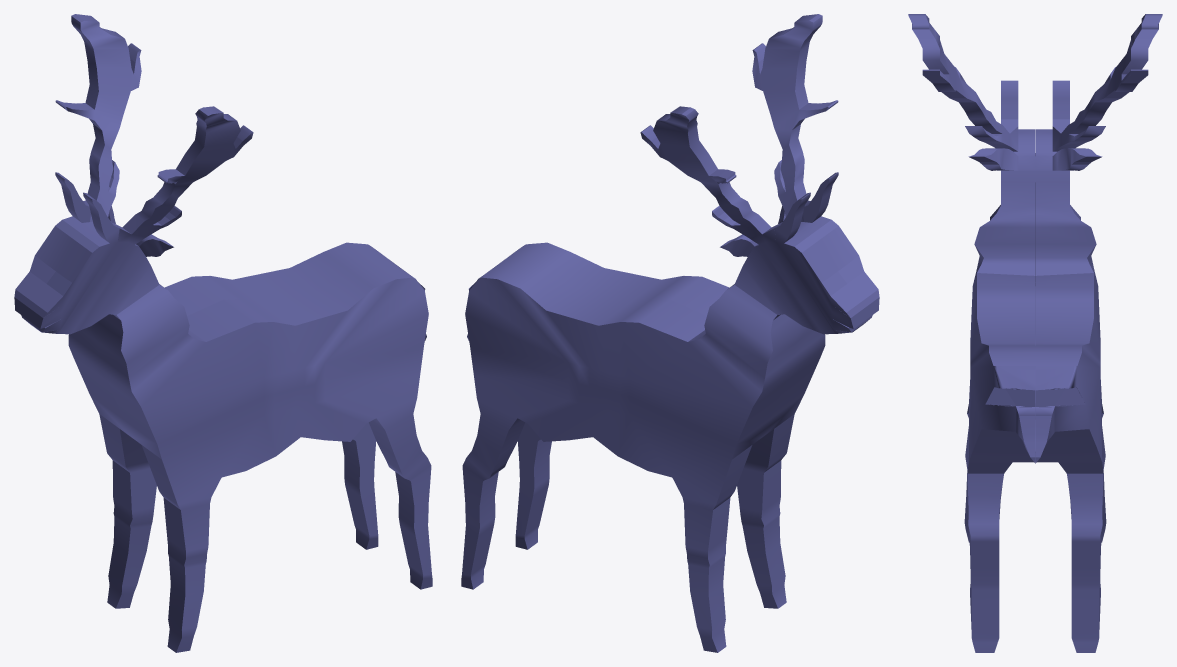
Rendered from Ellek FBX.fbx.
The picture shows the model from 3 angles, left to right: view 1: azimuth 30°, elevation 25°; view 2: azimuth 150°, elevation 25°; view 3: azimuth 270°, elevation 25°; orthographic projection. The views are drawn at different scales.
Parts seen in each view (by area): view 1: pCube1, pCube2; view 2: pCube2, pCube1; view 3: pCube1, pCube2.
Part boxes in pixels (x1,y1,x2,y2): pCube1: (27,106,432,652); pCube2: (14,14,390,608); pCube2: (461,106,866,652); pCube1: (503,14,879,608); pCube1: (908,14,1036,652); pCube2: (1034,14,1162,652).
Bounding box in the file's own units: 5.88 × 7.99 × 3.52.
